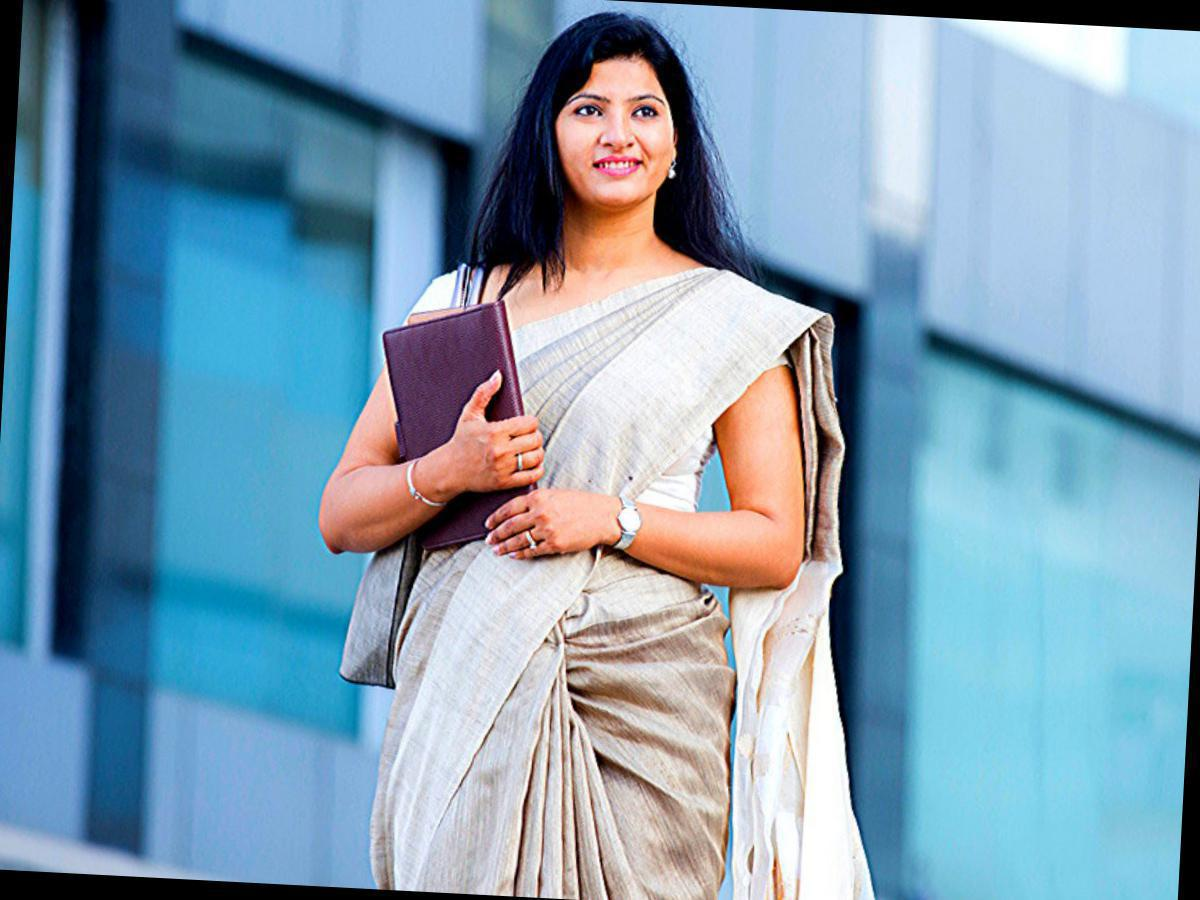Sober: (557, 66, 678, 193)
